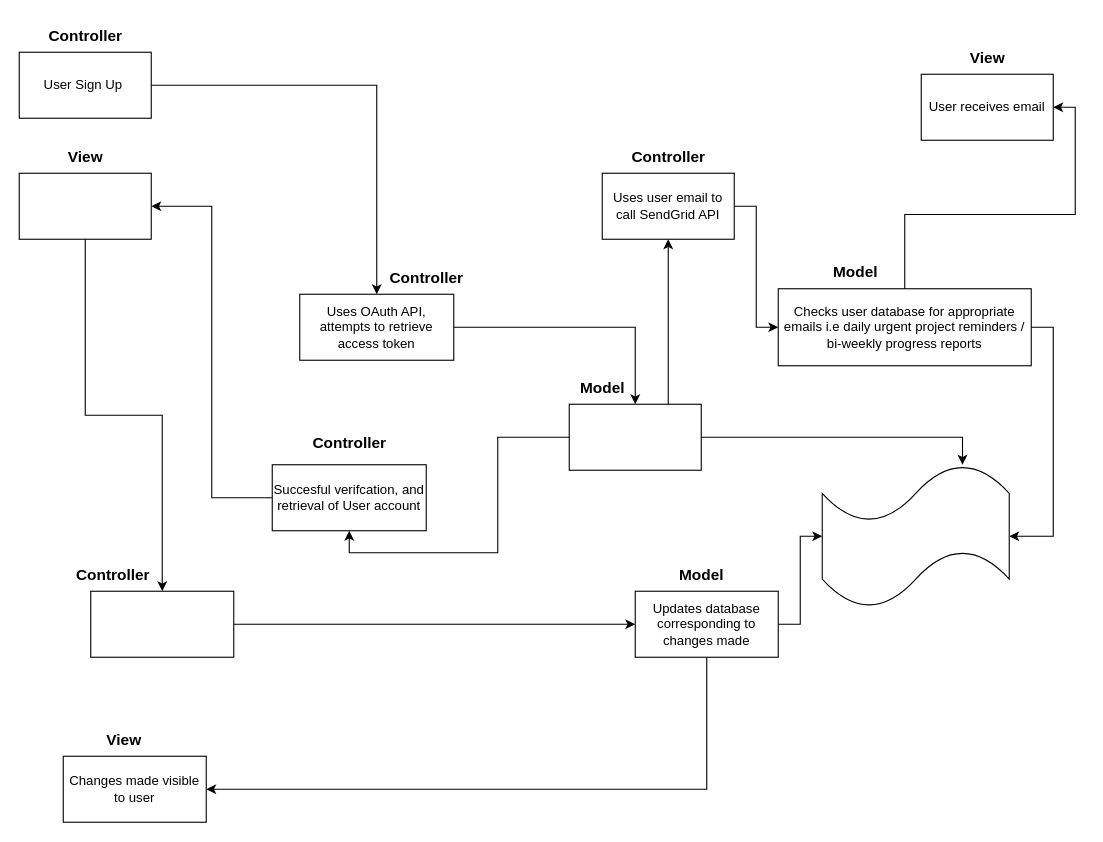
Image size: 1103x842. Some labels were removed from this diagram. The shapes that lost their labels are listed below. From the top down, each one's centre as x and y in pixels, then its label:
pixel 84 205: User Enters Their Project Space
pixel 634 436: Retrieves User Account from database
pixel 915 536: Database / Server
pixel 162 623: Creation / Deletion of new project
